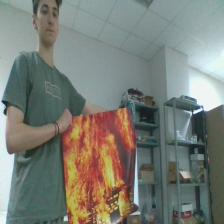fire-poster: (63, 109, 137, 223)
